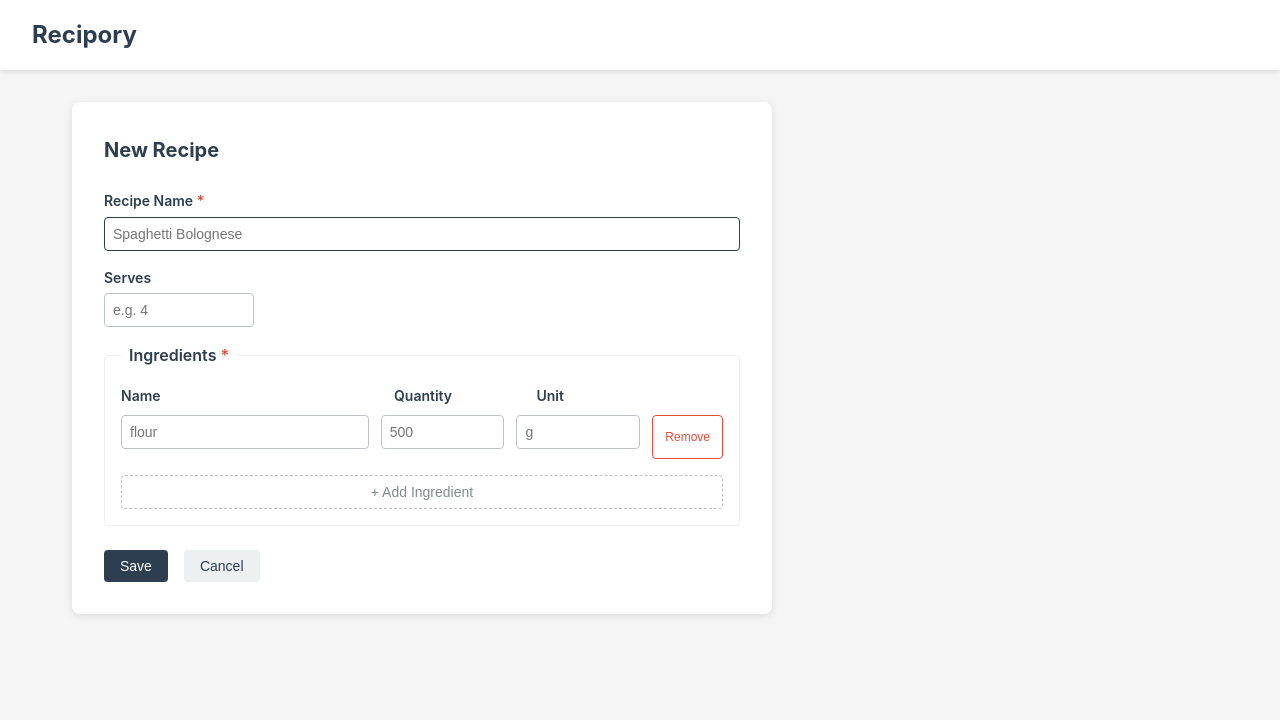
Test: App › Add Recipe › shows validation error when no ingredients exist
The width and height of the screenshot is (1280, 720).
Click the button "Remove" at (688,437), box x1=652 y1=415 x2=723 y2=459
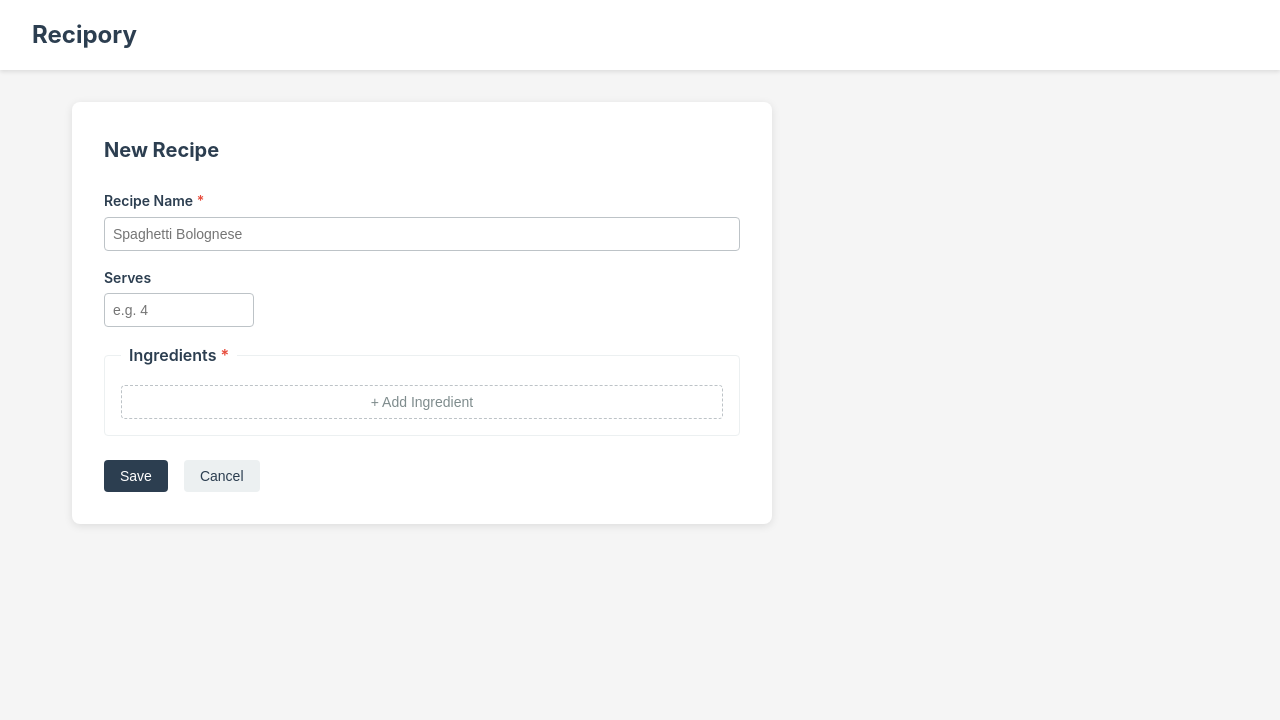
Type "Test Recipe" into the field labelled "Recipe Name" at (422,234), box x1=104 y1=217 x2=740 y2=251
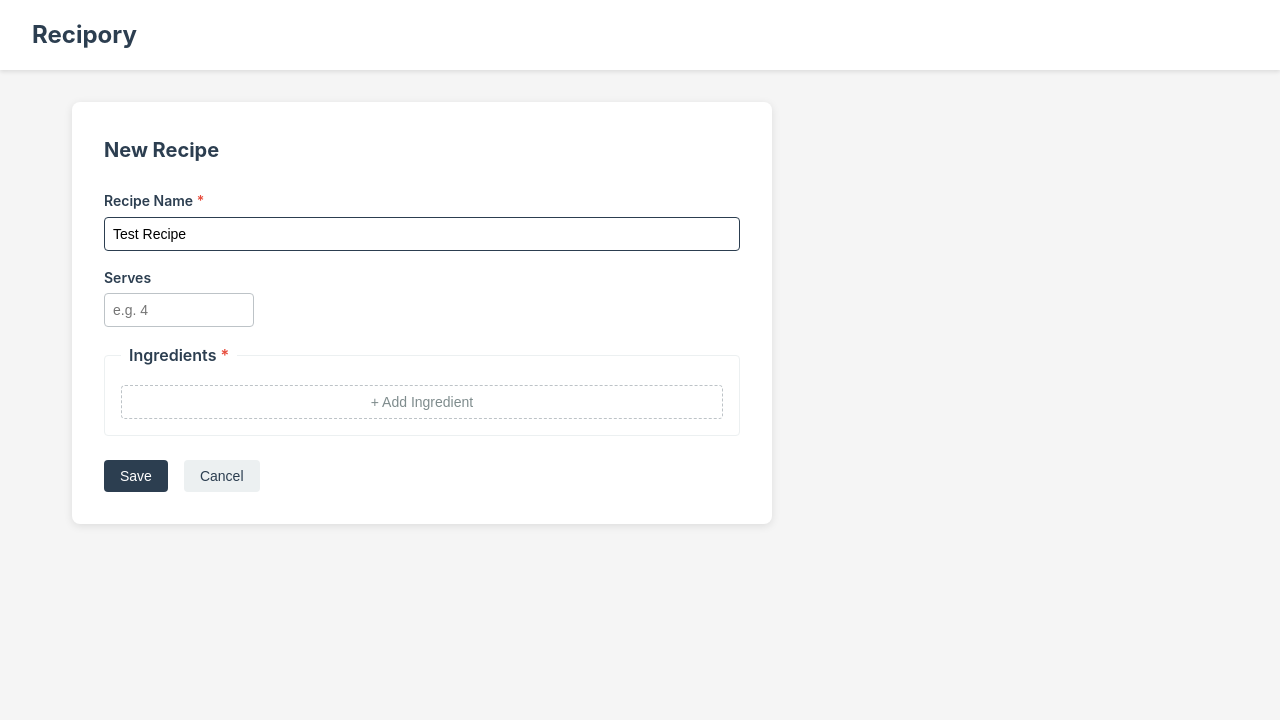
Click the button "Save" at (136,476), box x1=104 y1=460 x2=168 y2=492
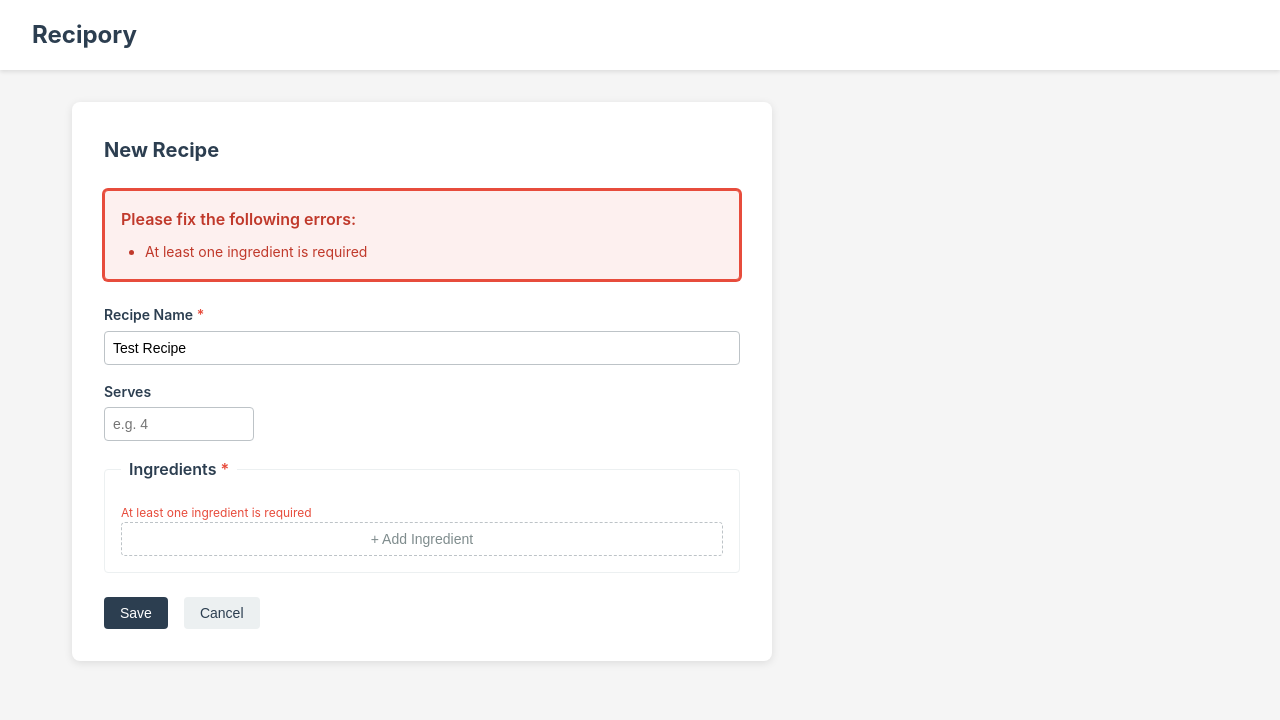
Expected: the message "Please fix the following errors: At least one ingredient is required" is shown, x1=104 y1=190 x2=740 y2=280
